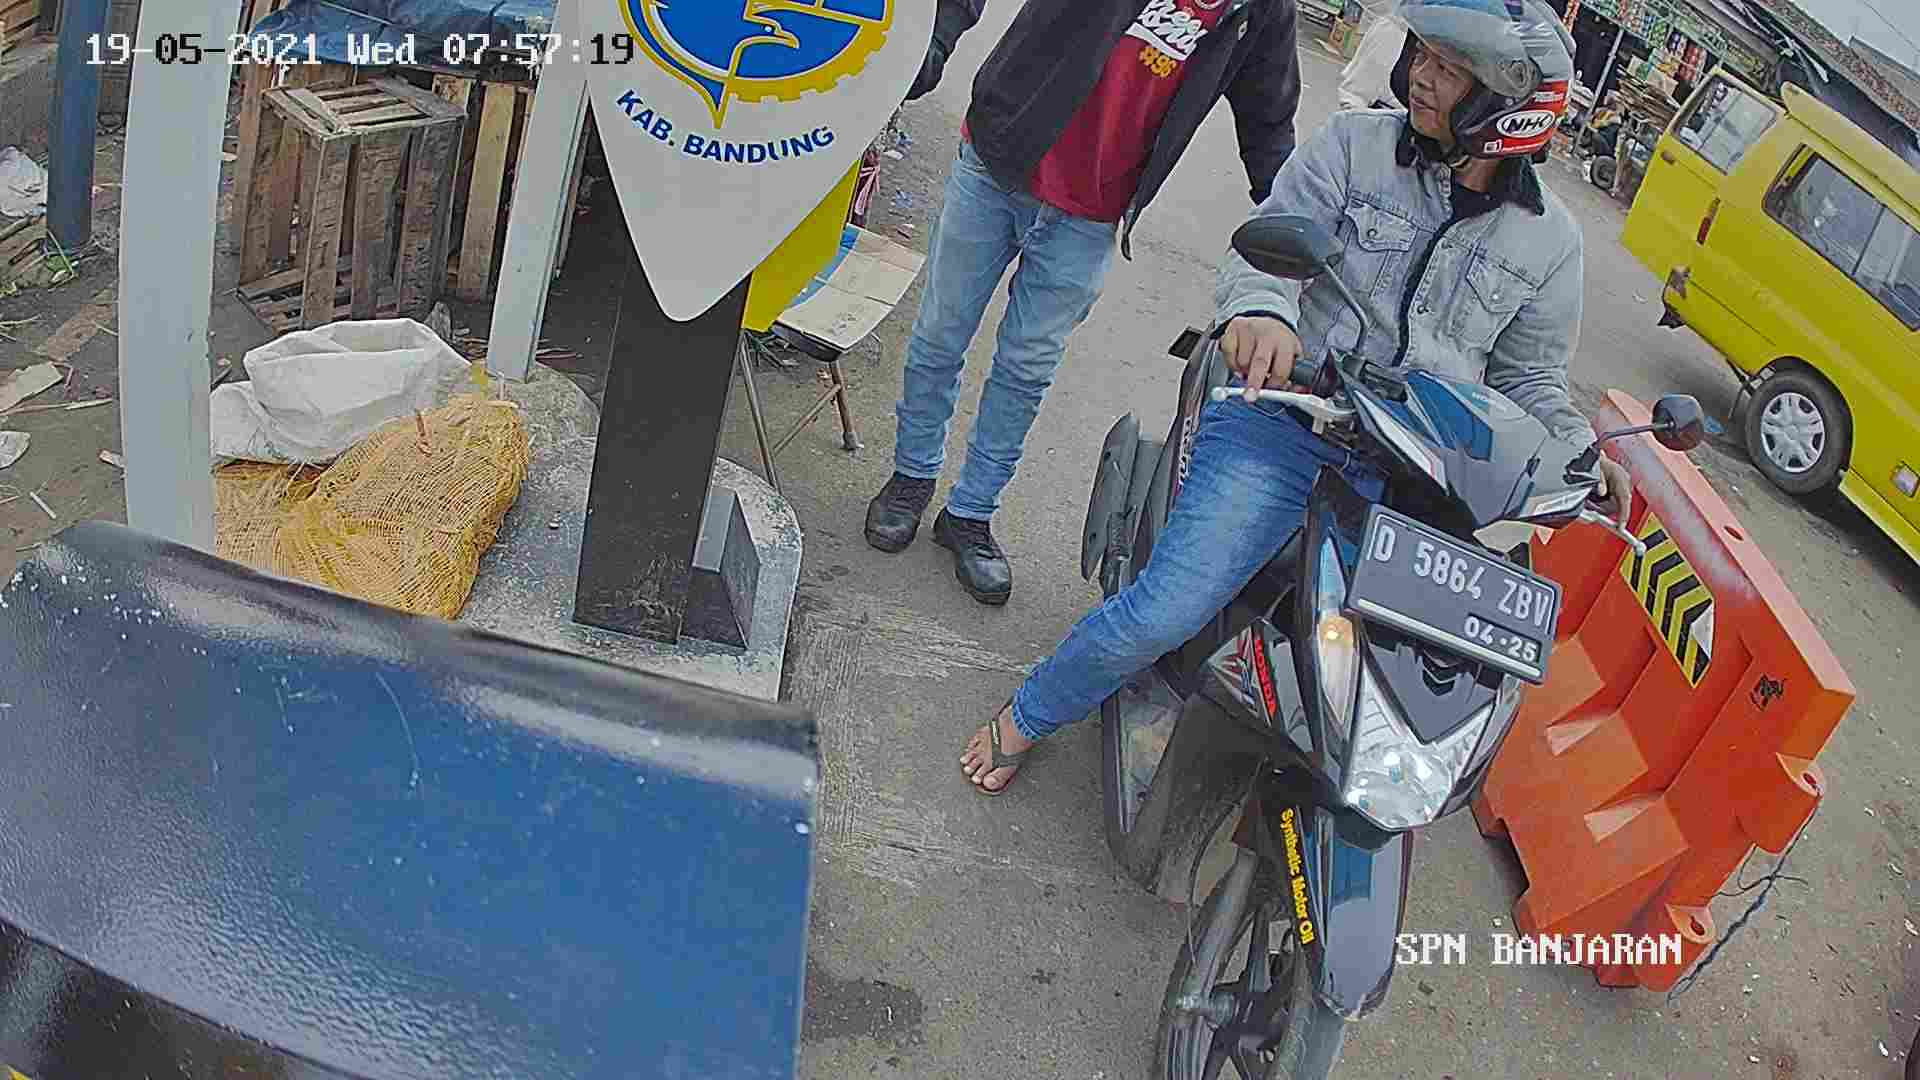motor: (1105, 290, 1545, 1073)
